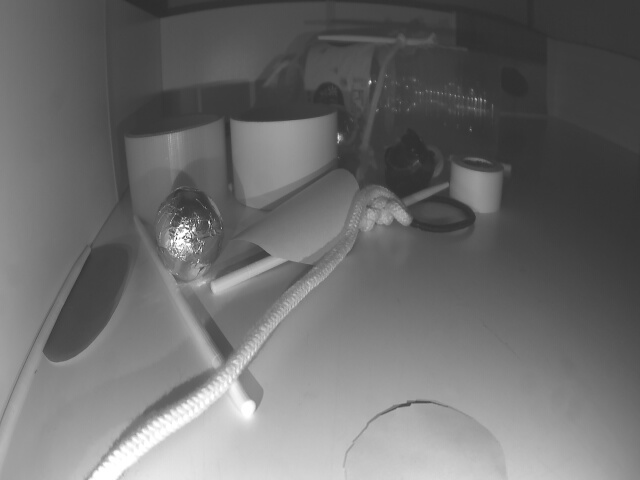Dead: (383, 133, 433, 191)
Live: (155, 184, 219, 278), (330, 104, 362, 160)
